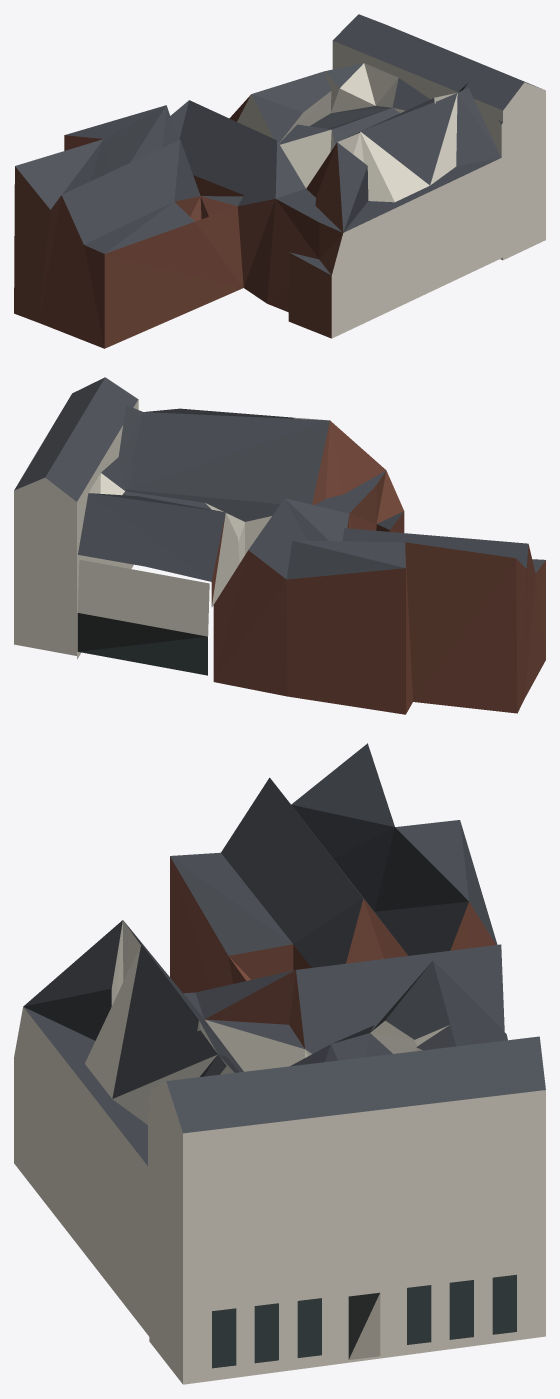
File: arti-et-amicitiae.lod2.glb
3 renders of one model, top to bottom at view 1: azimuth 30°, elevation 25°; view 2: azimuth 150°, elevation 25°; view 3: azimuth 270°, elevation 25°, orthographic. The views are drawn at different scales.
Visible parts, largest first — view 1: lod2; view 2: lod2; view 3: lod2.
Boxes of the visible parts, x1,y1,x2,y2 form: lod2: (14,14,545,348); lod2: (14,377,545,714); lod2: (14,743,545,1384).
Size of the model in its own units: 52 by 17.5 by 29.92.
